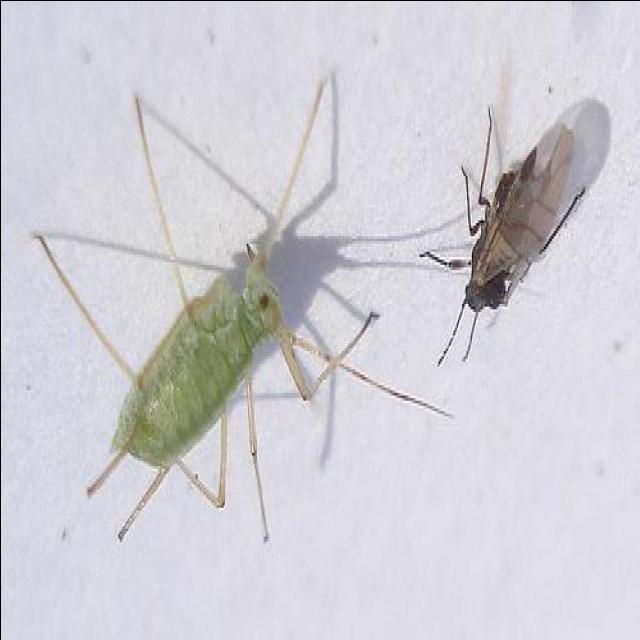aphid: (46, 78, 416, 593)
